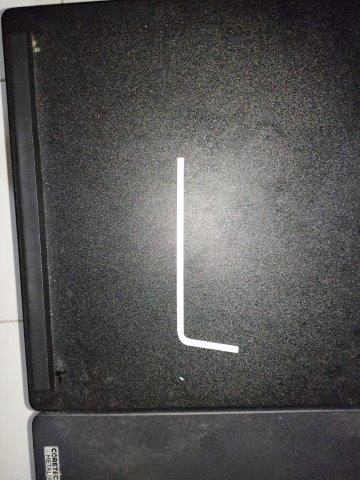sedotan: (175, 158, 239, 353)
